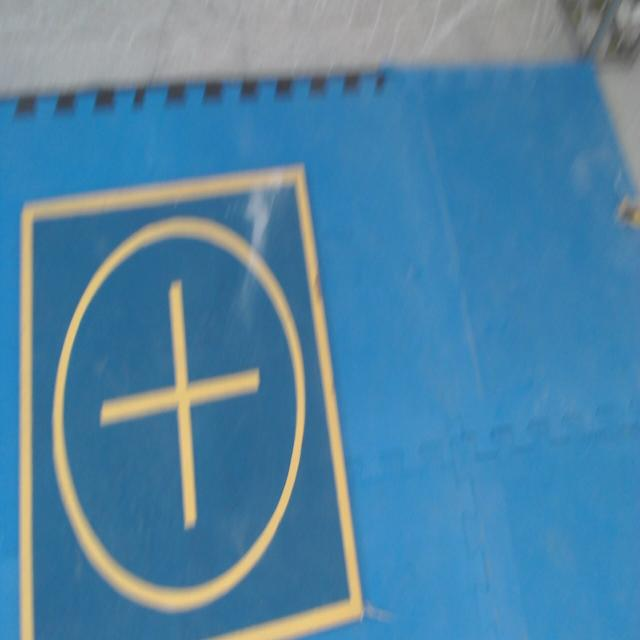base_pouso: (20, 162, 366, 639)
